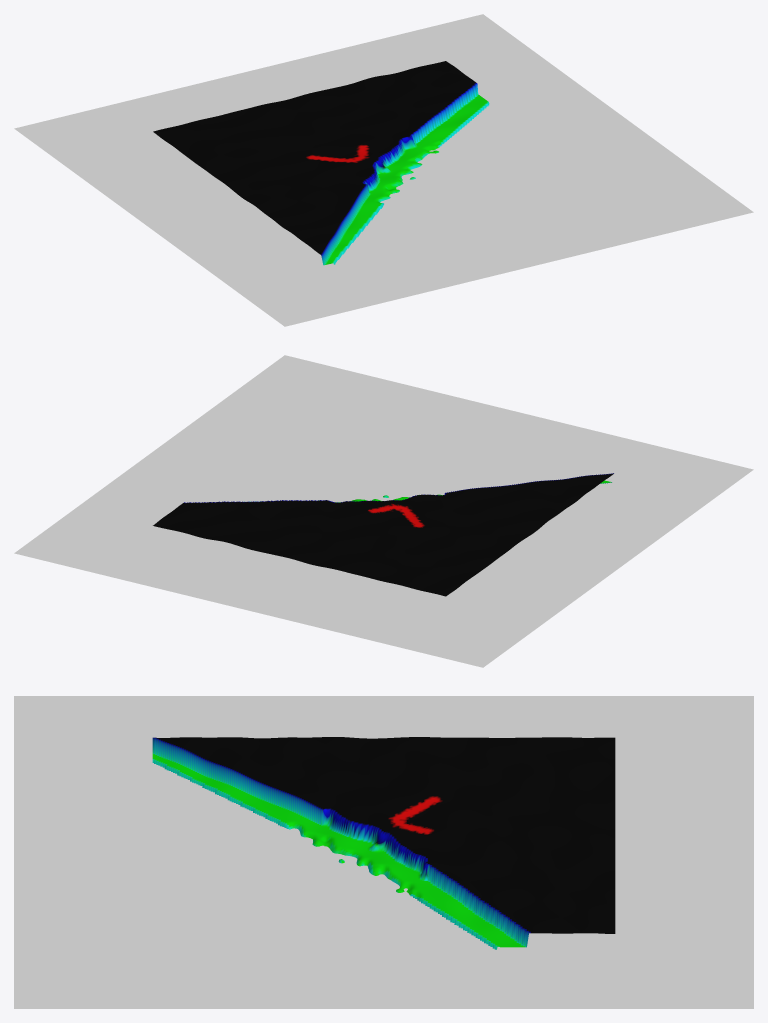
Rendered from terrain.glb.
3 renders of one model, top to bottom at view 1: azimuth 30°, elevation 25°; view 2: azimuth 150°, elevation 25°; view 3: azimuth 270°, elevation 25°, orthographic. The views are drawn at different scales.
Parts seen in each view (by area): view 1: water, terrain; view 2: water, terrain; view 3: water, terrain.
Part boxes in pixels (x1,y1,x2,y2): water: [14, 14, 753, 326]; terrain: [153, 61, 489, 265]; water: [14, 355, 753, 667]; terrain: [153, 473, 613, 596]; water: [14, 696, 753, 1008]; terrain: [152, 737, 615, 949].
Bounding box in the file's own units: 176 × 6.56 × 176.
